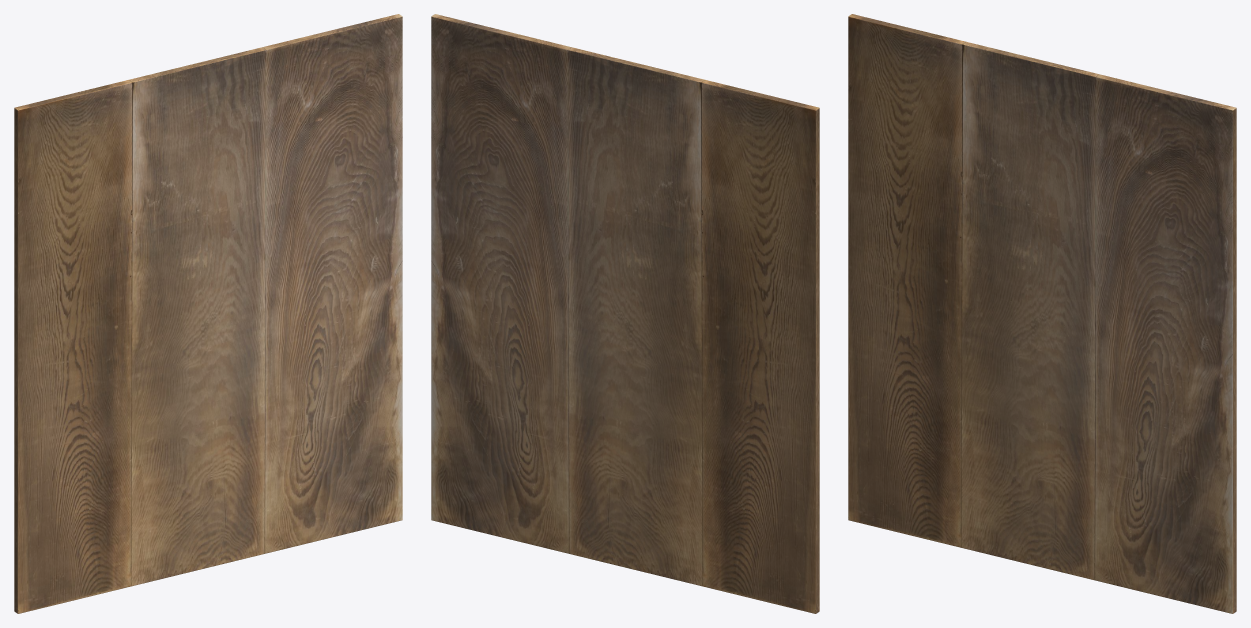
The model's file is simple_room.obj.
3 renders of one model, left to right at view 1: azimuth 30°, elevation 25°; view 2: azimuth 150°, elevation 25°; view 3: azimuth 330°, elevation 25°, orthographic.
Parts seen in each view (by area): view 1: Object_0.001; view 2: Object_0.001; view 3: Object_0.001.
Part boxes in pixels (x1,y1,x2,y2): Object_0.001: [14, 14, 402, 613]; Object_0.001: [431, 14, 819, 613]; Object_0.001: [848, 14, 1236, 613].
Bounding box in the file's own units: 1.2 × 1.5 × 0.021.
1 material, 1 textured.
